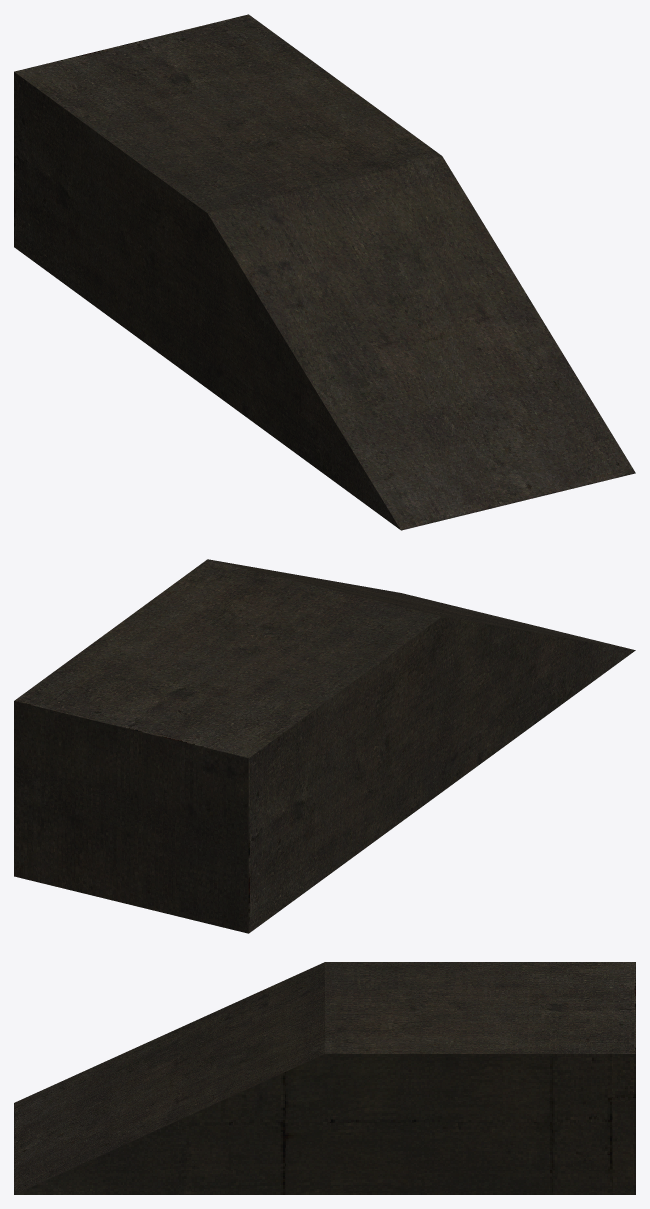
Rendered from ramp_platform_slim_mx_1.glb.
3 renders of one model, top to bottom at view 1: azimuth 30°, elevation 25°; view 2: azimuth 150°, elevation 25°; view 3: azimuth 270°, elevation 25°, orthographic. The views are drawn at different scales.
Parts seen in each view (by area): view 1: ramp_platform_slim_mx_1; view 2: ramp_platform_slim_mx_1; view 3: ramp_platform_slim_mx_1.
Boxes of the visible parts, x1,y1,x2,y2 form: ramp_platform_slim_mx_1: (14,14,635,530); ramp_platform_slim_mx_1: (14,559,635,933); ramp_platform_slim_mx_1: (14,962,635,1194).
Bounding box in the file's own units: 1.4 × 1 × 4.
2 materials, 2 textured.
